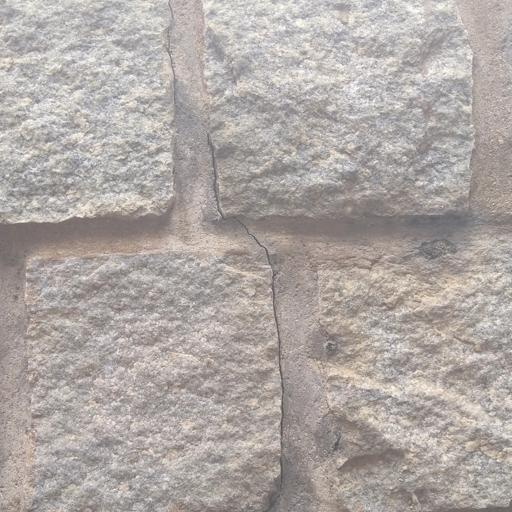minor_crack: (198, 114, 309, 496), (158, 0, 186, 125)
